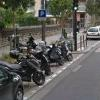Motorcycle: (10, 39, 61, 86)
